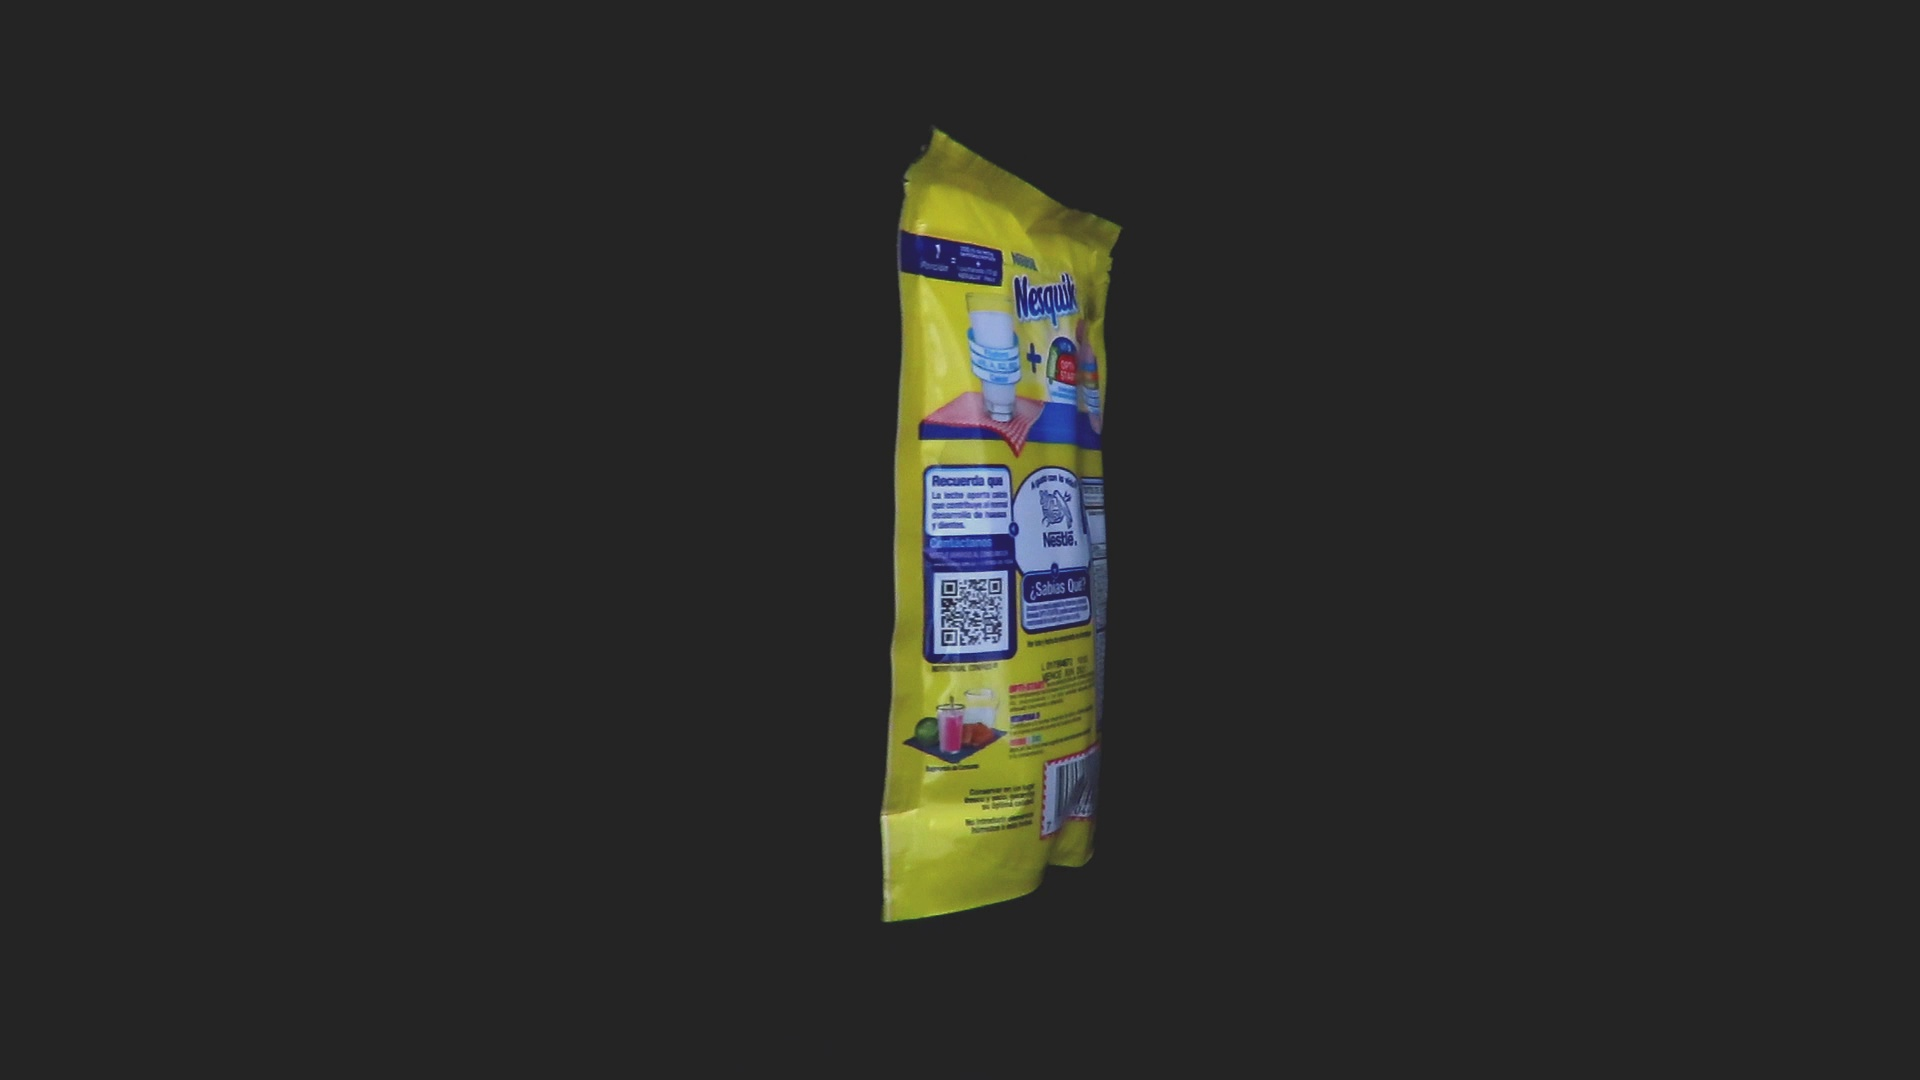COL0170305DYP20000: (876, 120, 1127, 928)
